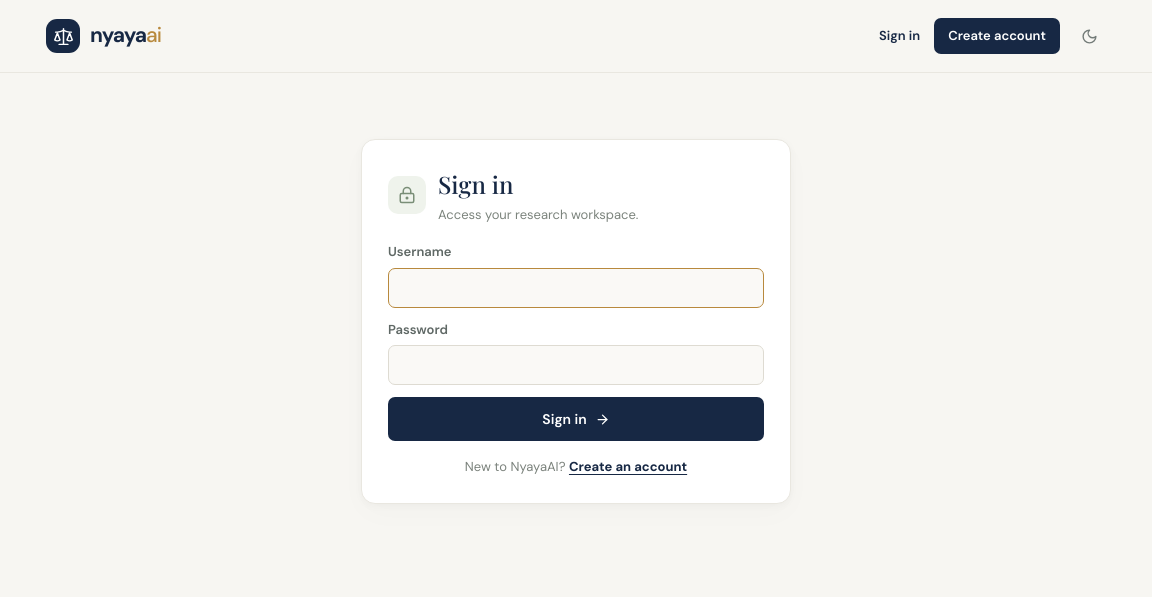
Test: authentication and route protection › signs in, stores the session, and returns to the requested page
Type "researcher" into the field labelled "Username" at (576, 288), box [388,268,764,308]
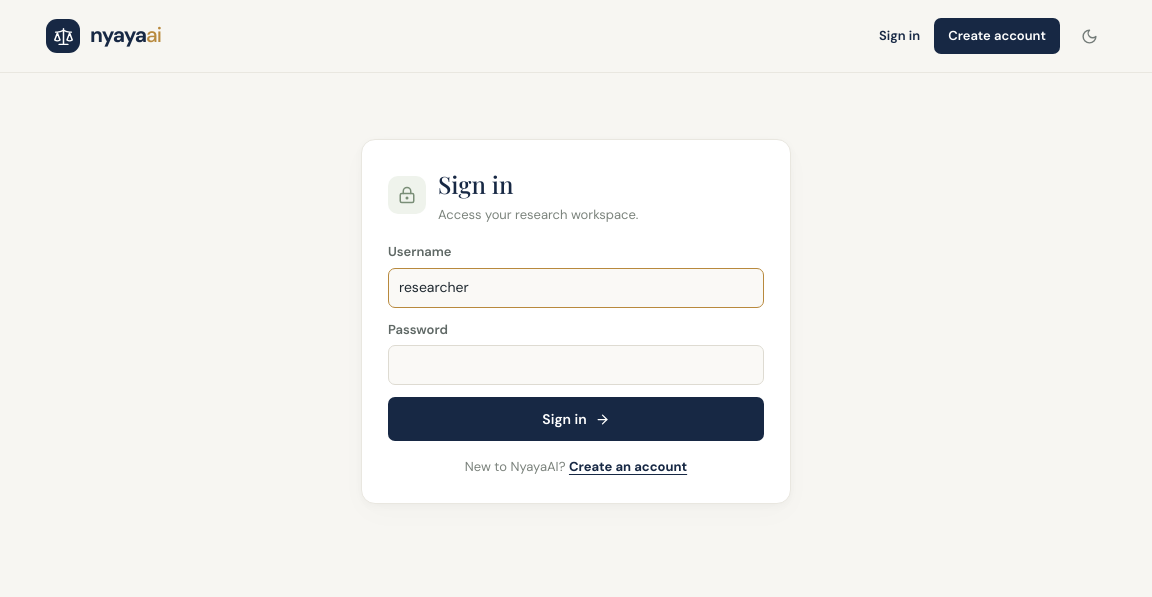
Type "long-password" into the password field labelled "Password" at (576, 365), box [388,345,764,385]
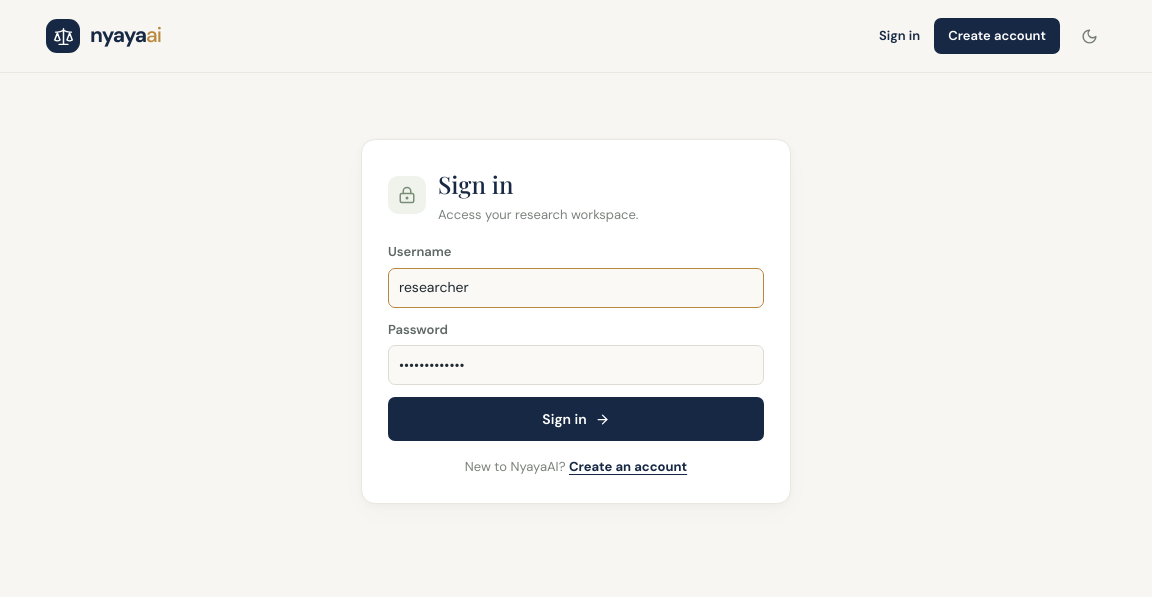
Click the button "Sign in" at (576, 419), box [388,397,764,441]
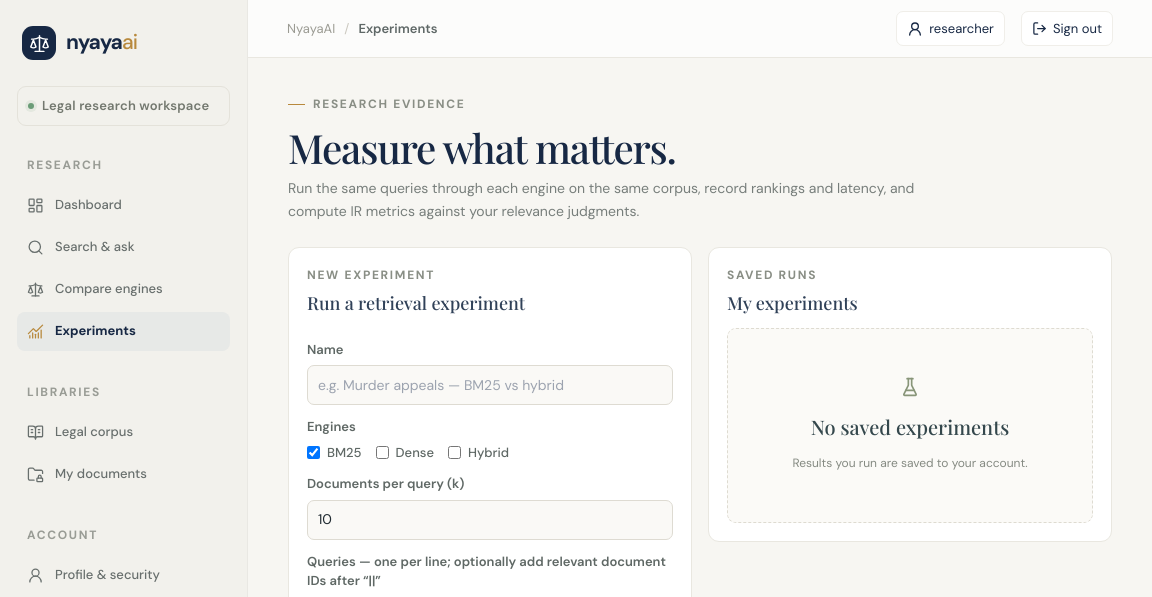
Check: the heading "Measure what matters." is shown, box [288,125,676,169]
